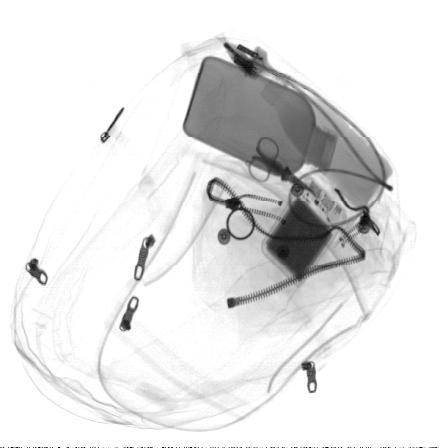Powerbank: (260, 173, 349, 289)
Scissors: (247, 136, 320, 195)
